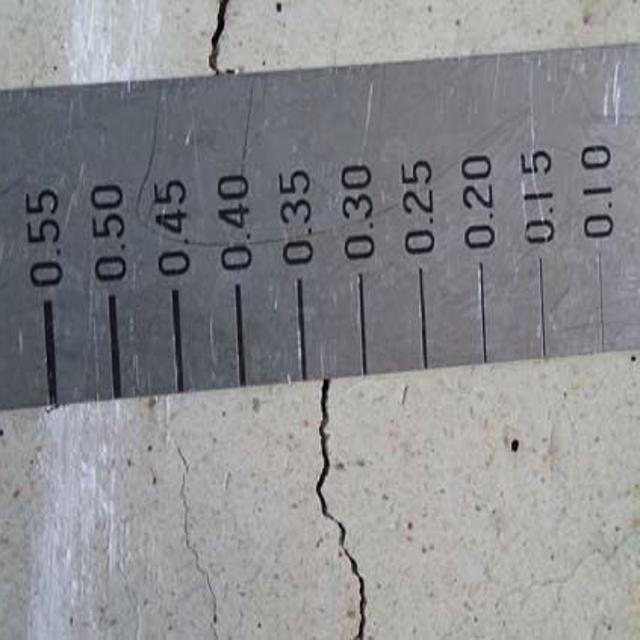crack: (292, 393, 392, 640), (197, 4, 240, 82)
